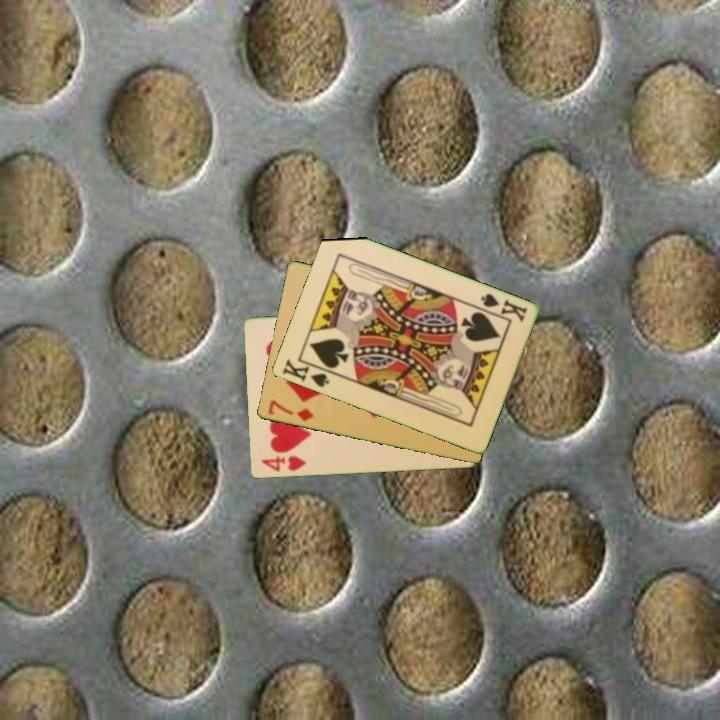4h: (257, 452, 309, 475)
7d: (264, 397, 316, 424)
Ks: (278, 355, 336, 390), (477, 290, 530, 325)
